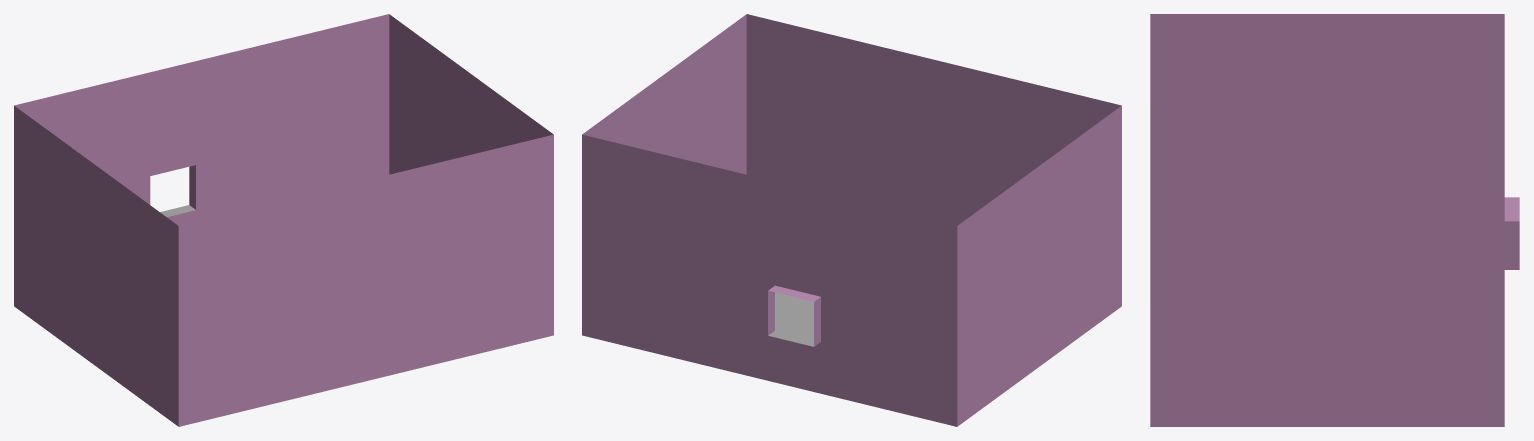
Rendered from Walls.fbx.
3 renders of one model, left to right at view 1: azimuth 30°, elevation 25°; view 2: azimuth 150°, elevation 25°; view 3: azimuth 270°, elevation 25°, orthographic. The views are drawn at different scales.
Parts seen in each view (by area): view 1: polySurface5; view 2: polySurface5; view 3: polySurface5.
Part boxes in pixels (x1,y1,x2,y2): polySurface5: [14, 14, 553, 426]; polySurface5: [582, 14, 1121, 426]; polySurface5: [1150, 14, 1519, 426].
Bounding box in the file's own units: 35.93 × 18.39 × 28.49.
